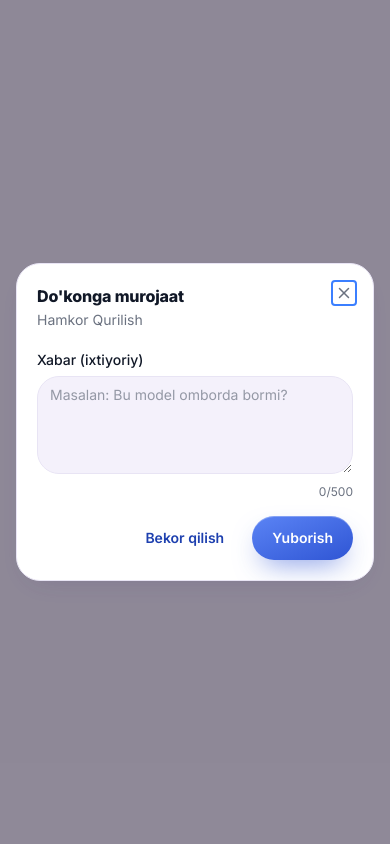
ShopInquiryDialog › sends the model, the room and the message to the shop, then confirms
Type "  Omborda bormi?  " into the text box labelled "Xabar (ixtiyoriy)".
click(195, 425); type("  Omborda bormi?  ")  # box left=37, top=376, right=353, bottom=474
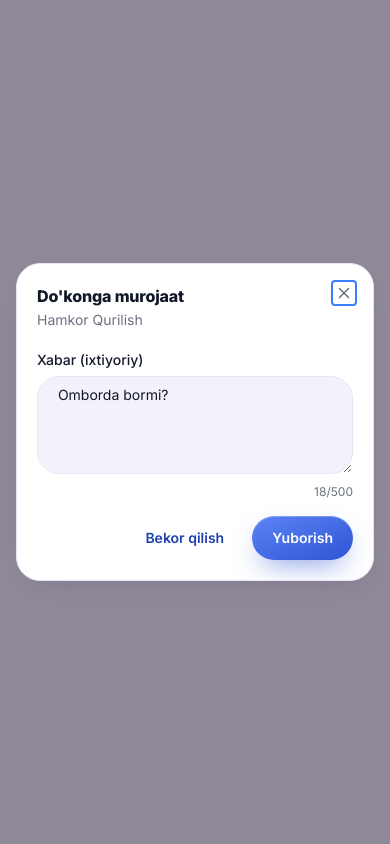
Click the button "Yuborish".
click(303, 538)  # box left=252, top=516, right=353, bottom=560
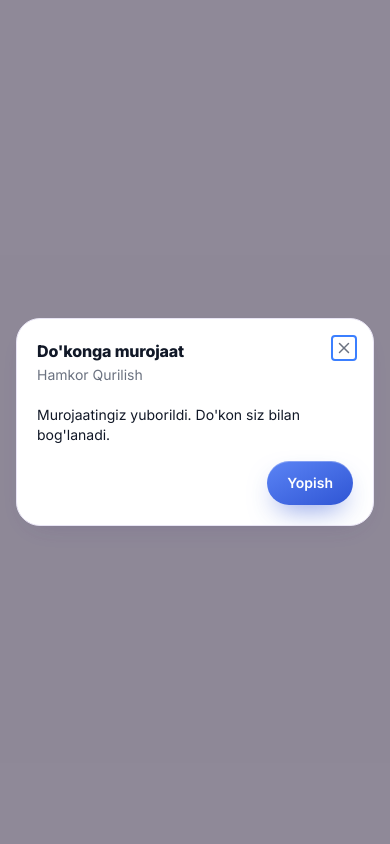
Result: the text "Murojaatingiz yuborildi. Do'kon siz bilan bog'lanadi." is shown at left=37, top=406, right=300, bottom=443
